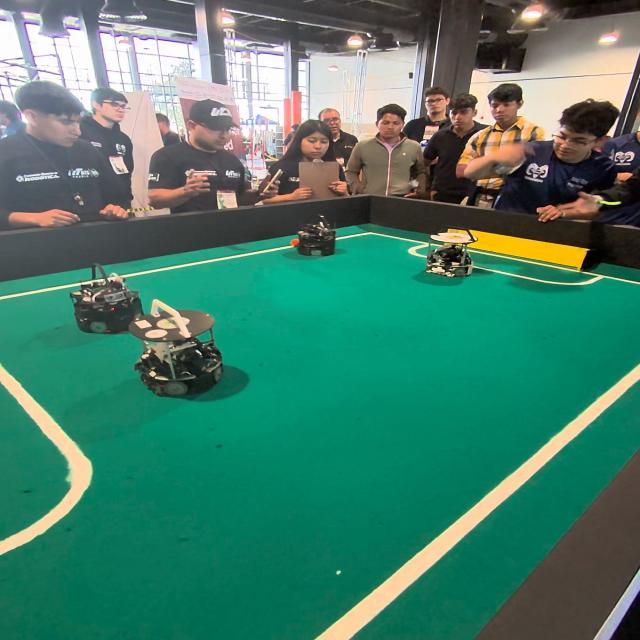Robot: (135, 294, 231, 407), (68, 268, 140, 340), (422, 224, 474, 282), (292, 214, 339, 260)
pelota: (291, 238, 300, 246)
